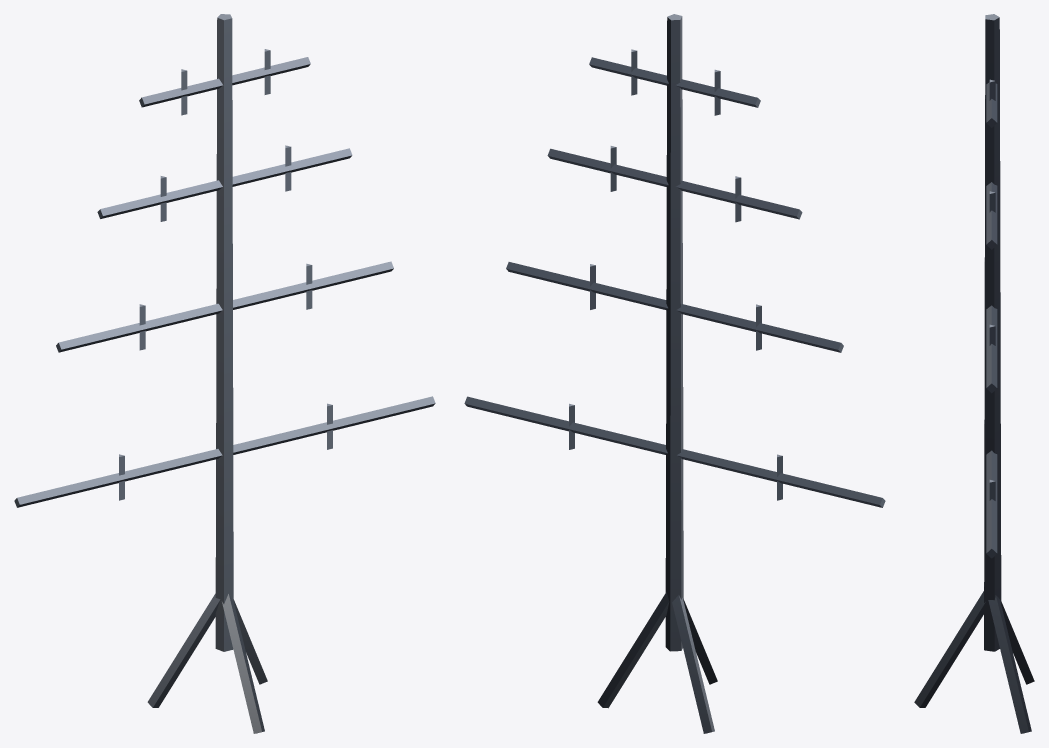
File: tv_antenna.glb
The picture shows the model from 3 angles, left to right: view 1: azimuth 30°, elevation 25°; view 2: azimuth 150°, elevation 25°; view 3: azimuth 270°, elevation 25°; orthographic projection.
Parts seen in each view (by area): view 1: tv_antenna; view 2: tv_antenna; view 3: tv_antenna.
Part boxes in pixels (<box>): tv_antenna: <box>14,14,435,733</box>; tv_antenna: <box>464,14,885,733</box>; tv_antenna: <box>914,14,1034,733</box>.
Bounding box in the file's own units: 0.6 × 0.9539 × 0.1506.
